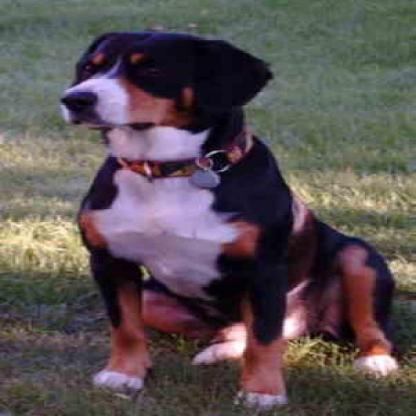EntleBucher: (58, 27, 395, 411)
